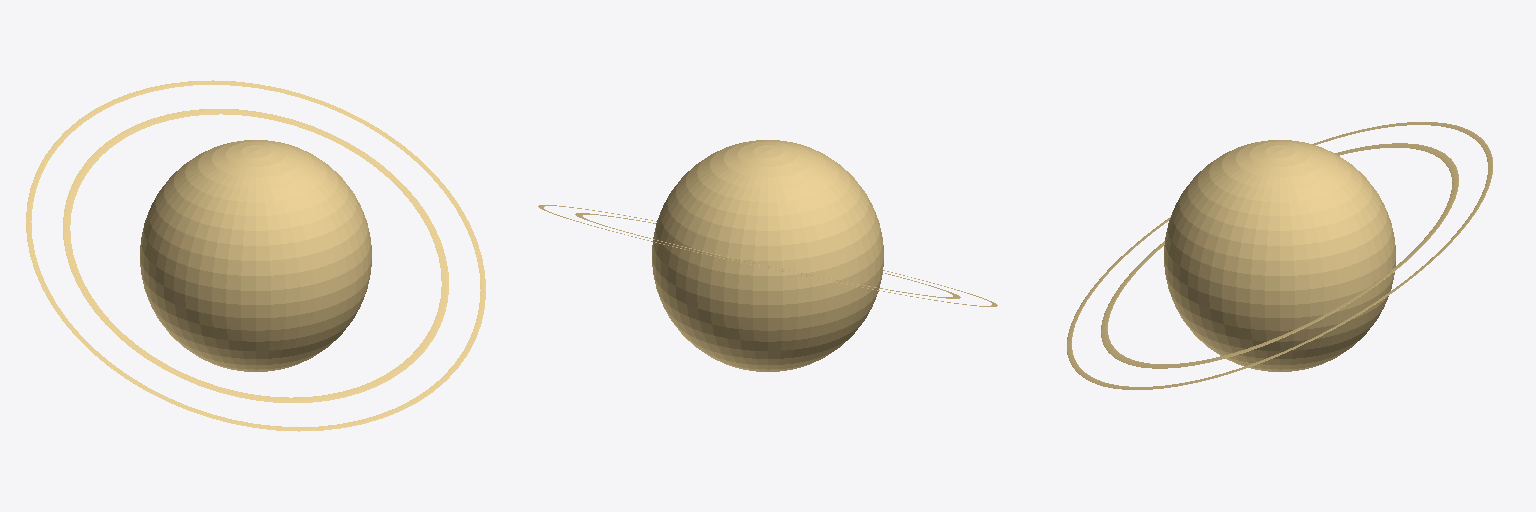
The model's file is gem_type_5.obj.
3 renders of one model, left to right at view 1: azimuth 30°, elevation 25°; view 2: azimuth 150°, elevation 25°; view 3: azimuth 270°, elevation 25°, orthographic.
Parts seen in each view (by area): view 1: gem_type_5; view 2: gem_type_5; view 3: gem_type_5.
Part boxes in pixels (x1,y1,x2,y2): gem_type_5: (26, 80, 485, 431); gem_type_5: (538, 140, 997, 371); gem_type_5: (1067, 122, 1492, 389).
Size of the model in its own units: 2.43 by 1.2 by 2.2.